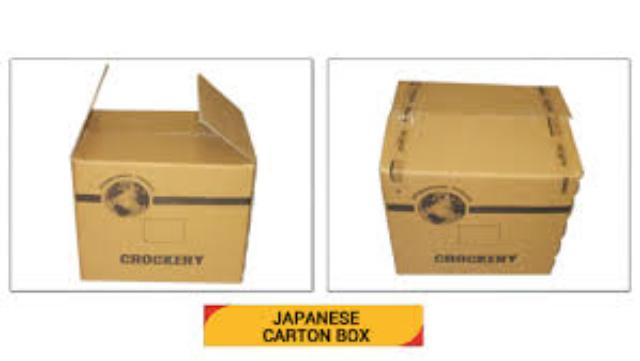cardboard paper: (379, 79, 578, 270), (71, 73, 253, 278)
